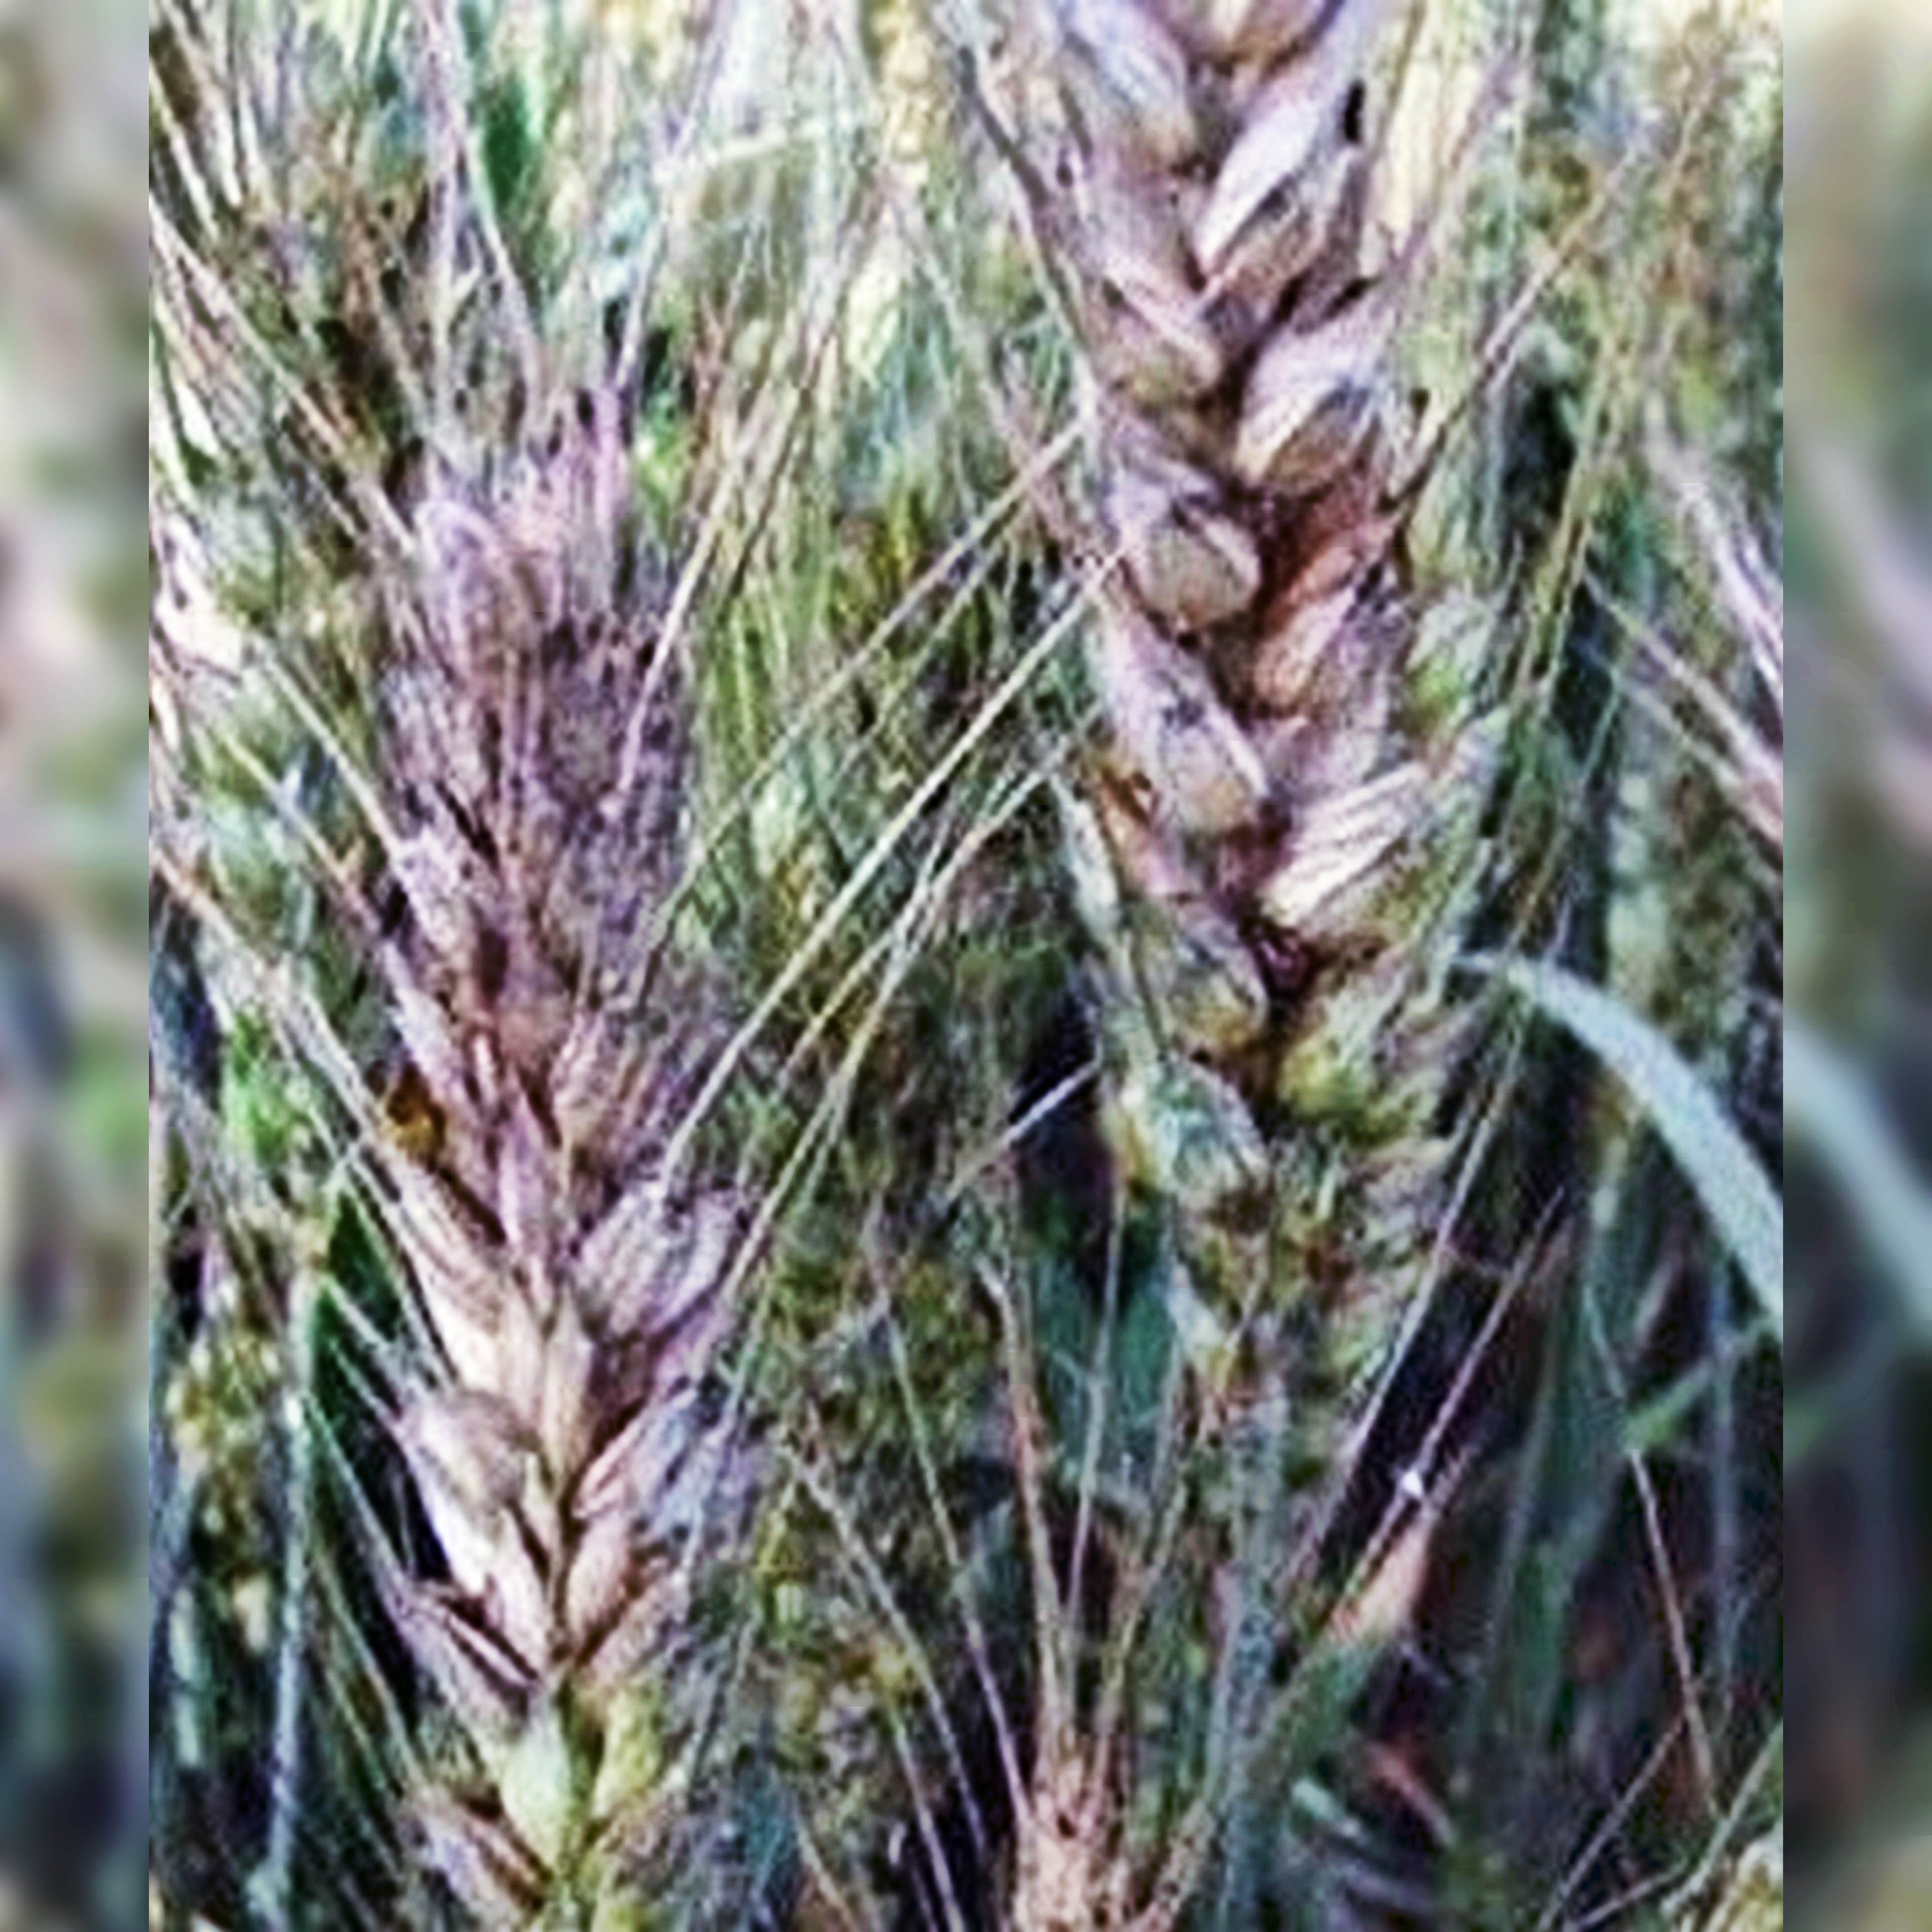Wheat scab: (998, 0, 1458, 1431), (368, 437, 757, 1900)
